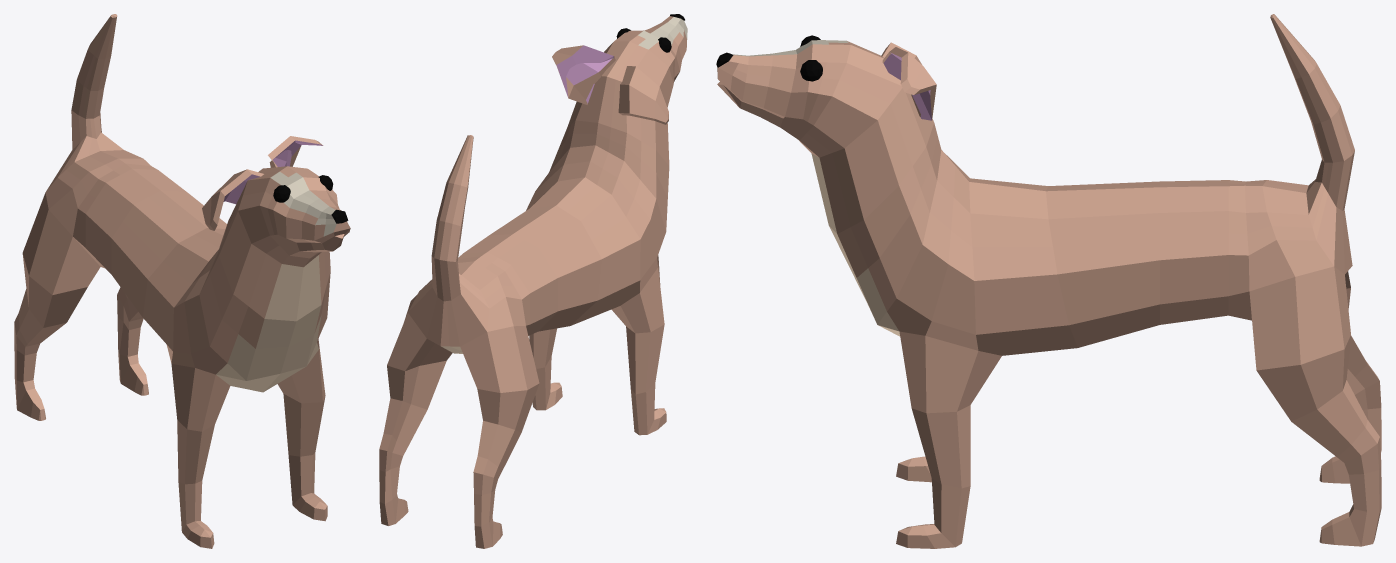
File: toby.fbx
3 renders of one model, left to right at view 1: azimuth 30°, elevation 25°; view 2: azimuth 150°, elevation 25°; view 3: azimuth 270°, elevation 25°, orthographic. The views are drawn at different scales.
Parts seen in each view (by area): view 1: dog; view 2: dog; view 3: dog.
Boxes of the visible parts, x1,y1,x2,y2 form: dog: (14, 14, 350, 548); dog: (379, 14, 687, 548); dog: (716, 14, 1381, 548).
Bounding box in the file's own units: 114 × 301 × 366.
